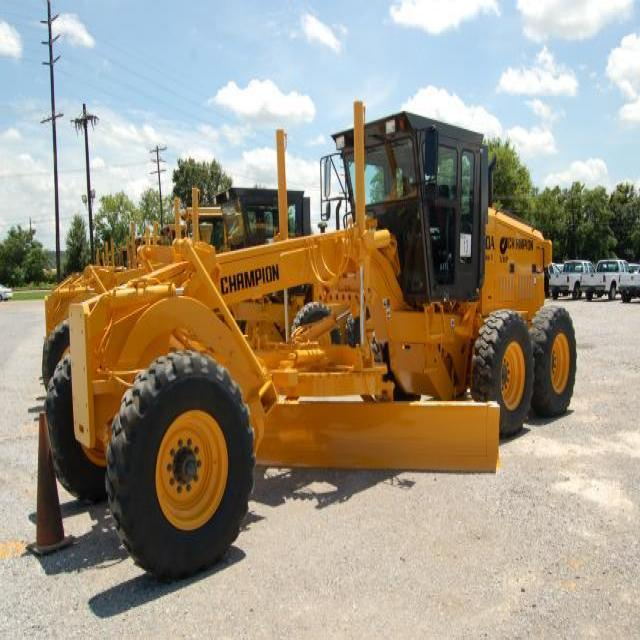Grader: (36, 93, 598, 574)
